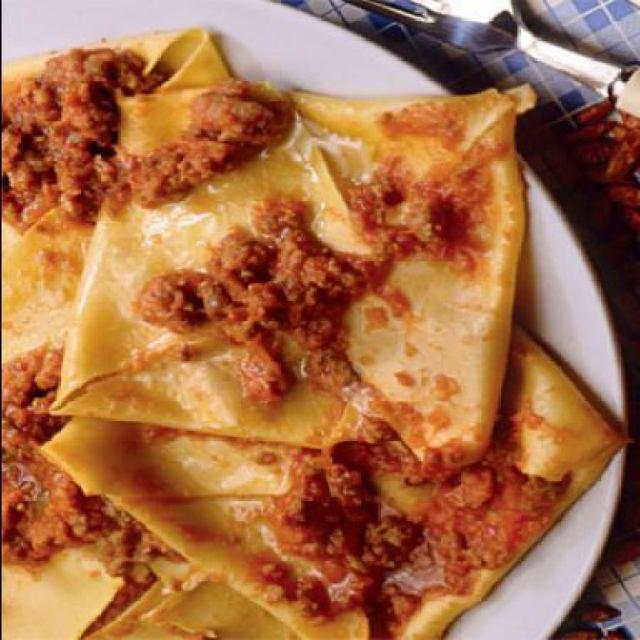Pasta: (15, 36, 577, 626)
